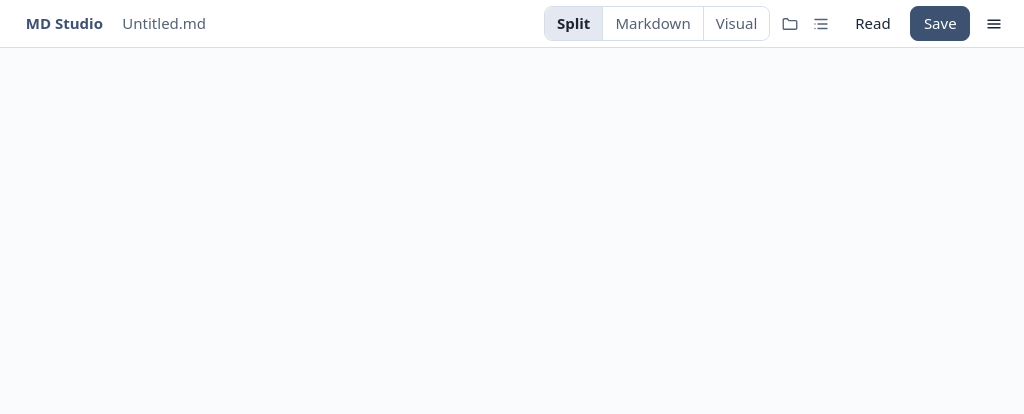
Test: Toolbar › shows PC shortcut hints off a Mac
The width and height of the screenshot is (1024, 414).
Click the button named "Menu": x=994, y=24 [976,8,1012,39]
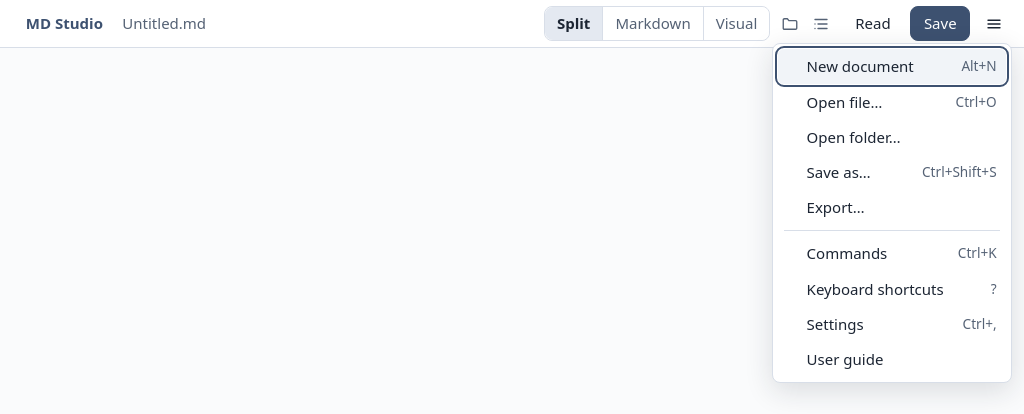
Expected: the menu item "Commands Ctrl+K" is shown, [778,236,1006,271]
